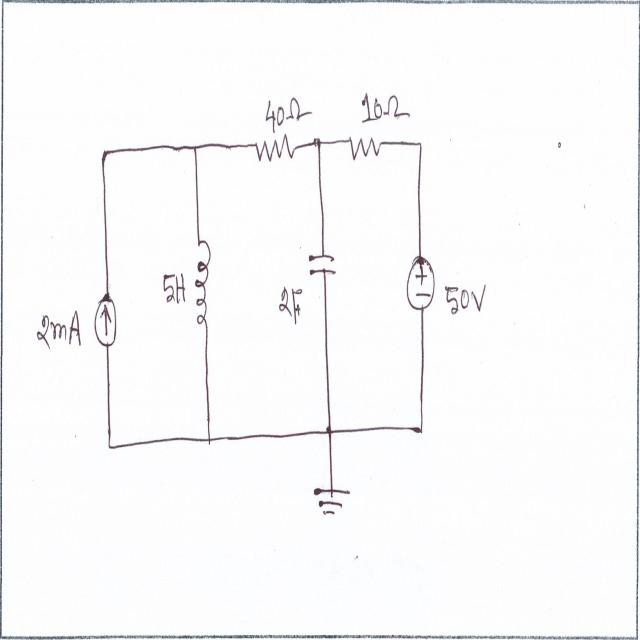capacitor: (306, 248, 337, 283)
current_source: (91, 286, 121, 354)
ground: (314, 478, 353, 524)
inductor: (195, 235, 214, 330)
resistor: (253, 128, 296, 169), (349, 123, 383, 167)
voltage_source: (404, 247, 438, 317)
